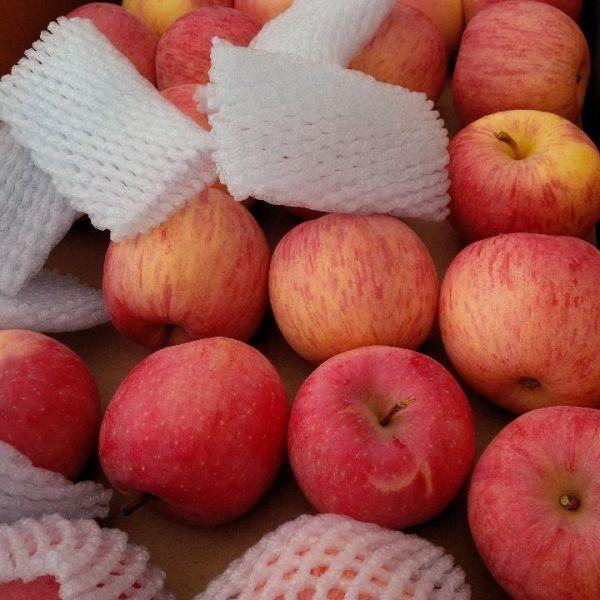apple: (285, 344, 476, 529), (101, 337, 288, 518), (435, 229, 600, 416), (102, 185, 268, 350), (464, 403, 598, 596), (270, 209, 437, 361), (444, 112, 598, 243), (449, 2, 589, 124), (1, 327, 101, 479), (347, 4, 452, 105), (155, 7, 264, 91)
